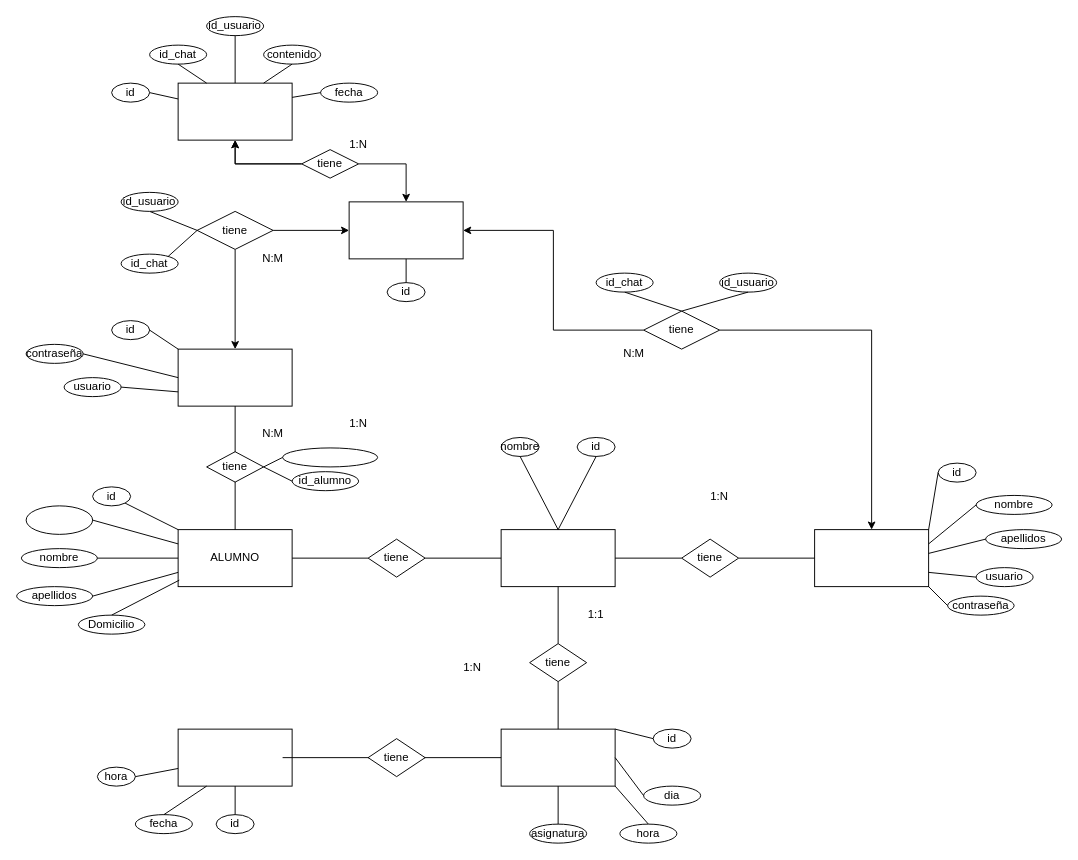
Image size: 1078x860. Some labels were removed from this diagram. The box of each missing label's shape, as (x1, y1, x2, y2) in pixels:
CHAT: (348, 201, 463, 259)
CURSO: (500, 529, 615, 587)
FALTAS: (177, 728, 292, 786)
HORARIO: (500, 728, 615, 786)
id_tutorLegal: (282, 447, 378, 467)
MENSAJE: (177, 82, 292, 140)
PROFESOR: (814, 529, 929, 587)
tel. contacto: (25, 505, 93, 534)
TUTOR LEGAL: (177, 348, 292, 406)
